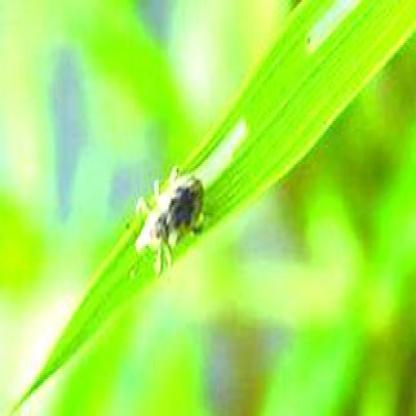rice-bug: (134, 157, 212, 278)
